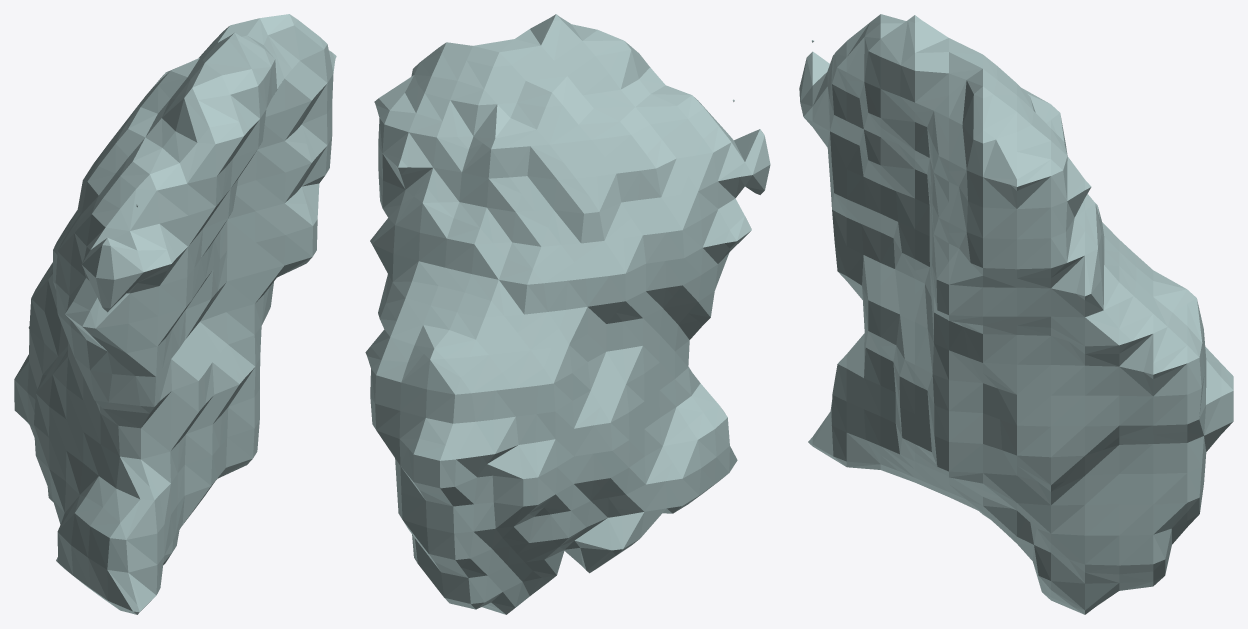
File: r_accumbens.glb
3 views of the same model, side by side, from view 1: azimuth 30°, elevation 25°; view 2: azimuth 150°, elevation 25°; view 3: azimuth 270°, elevation 25° (orthographic). The views are drawn at different scales.
Parts seen in each view (by area): view 1: world; view 2: world; view 3: world.
Boxes of the visible parts, x1=… form: world: x1=14, y1=14, x2=336, y2=614; world: x1=365, y1=14, x2=770, y2=614; world: x1=799, y1=14, x2=1233, y2=614.
Bounding box in the file's own units: 11.55 × 19.51 × 12.75.
